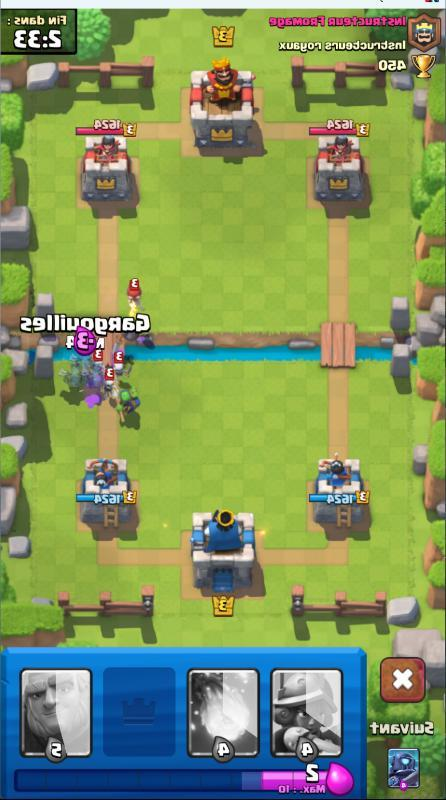enemy_bomber: (122, 278, 147, 310)
enemy_skeletons: (109, 349, 133, 376), (99, 370, 118, 400)
player_spear_goblins: (112, 382, 144, 418)
